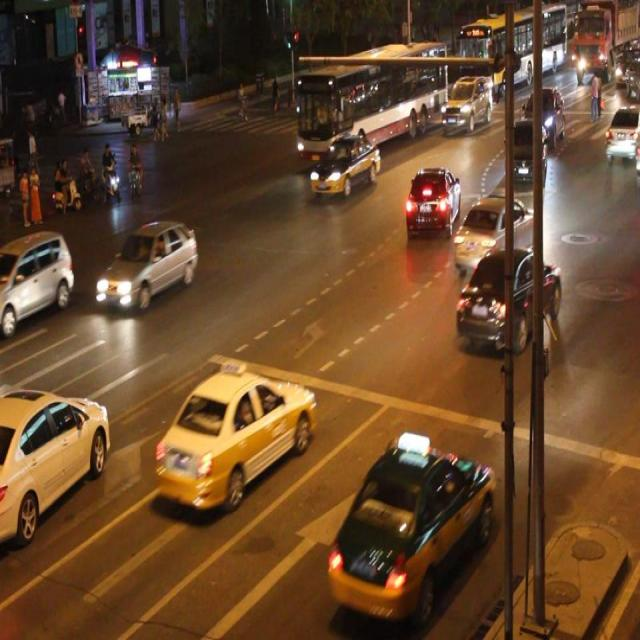car: (329, 439, 493, 617), (156, 370, 314, 510), (1, 388, 110, 541), (455, 246, 560, 350), (96, 216, 196, 308), (1, 231, 76, 327), (451, 194, 535, 272), (310, 135, 381, 196), (404, 164, 459, 239), (441, 76, 492, 133), (505, 118, 544, 191), (603, 106, 640, 158)
van: (296, 46, 445, 157)
